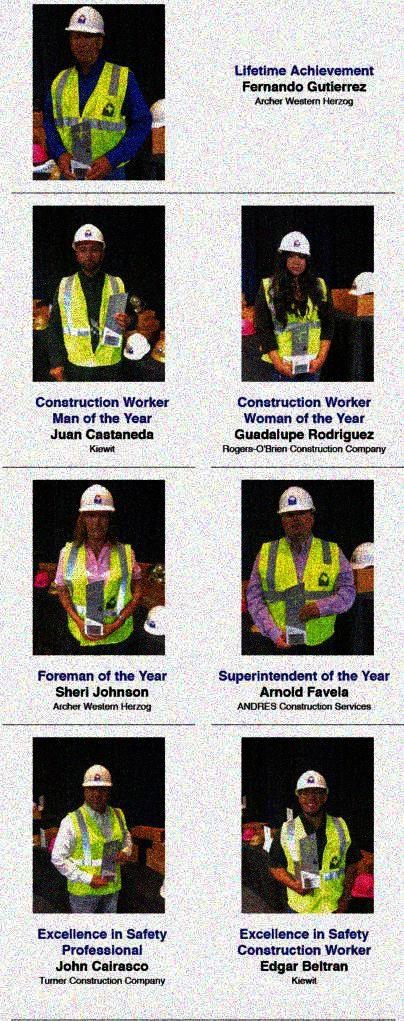helmet: (275, 486, 323, 541), (65, 5, 109, 63), (78, 484, 119, 541), (71, 222, 110, 274), (294, 769, 332, 816), (276, 230, 313, 276), (82, 763, 115, 811)
